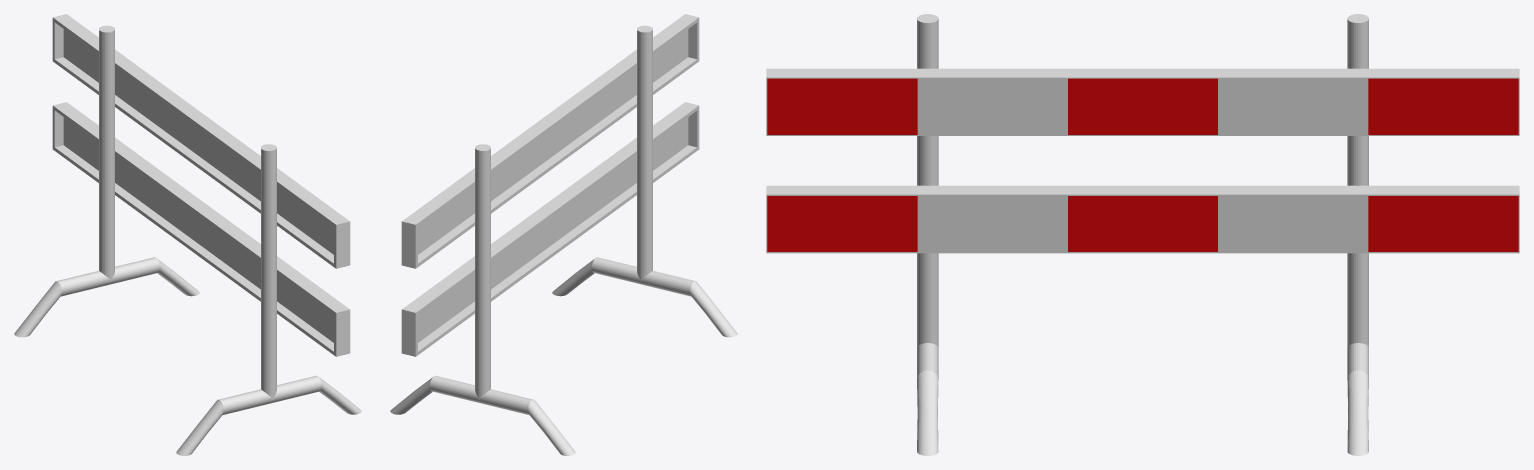
Rendered from versperringsbord.fbx.
3 renders of one model, left to right at view 1: azimuth 30°, elevation 25°; view 2: azimuth 150°, elevation 25°; view 3: azimuth 270°, elevation 25°, orthographic. The views are drawn at different scales.
Visible parts, largest first — view 1: Cube, Cube.001, Cylinder, Cylinder.001, Cylinder.003, Cylinder.002; view 2: Cube, Cube.001, Cylinder.001, Cylinder, Cylinder.002, Cylinder.003; view 3: Cube.001, Cube, Cylinder, Cylinder.001, Cylinder.002, Cylinder.003.
Part boxes in pixels (x1,y1,x2,y2): Cube: (52,14,350,268); Cube.001: (52,102,350,356); Cylinder: (99,25,114,281); Cylinder.001: (261,144,276,399); Cylinder.003: (14,257,199,337); Cylinder.002: (176,375,361,455); Cube: (401,14,699,268); Cube.001: (401,102,699,356); Cylinder.001: (637,25,652,281); Cylinder: (475,144,490,399); Cylinder.002: (552,257,737,337); Cylinder.003: (390,375,575,455); Cube.001: (766,185,1519,253); Cube: (766,68,1519,135); Cylinder: (1347,14,1368,347); Cylinder.001: (917,14,938,347); Cylinder.002: (917,343,938,455); Cylinder.003: (1347,343,1368,455).
Bounding box in the file's own units: 261 × 388 × 700.
